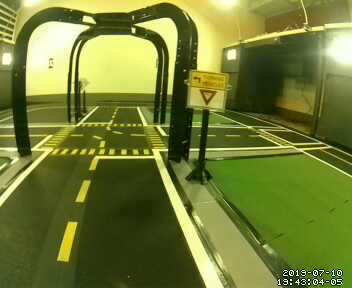Turn Yield: (187, 68, 229, 117)
